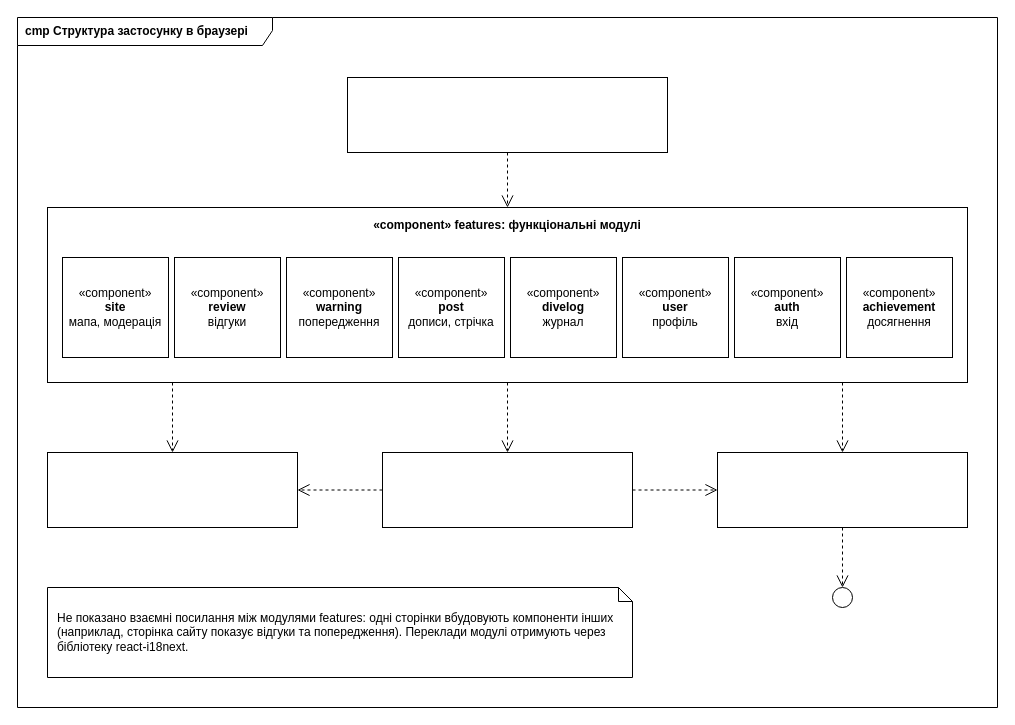
Some shapes in this 1015 by 725 pixel diagram are drawn without their labels. Here are the shapes that lost their labels. From the top down, the centre of each, then its label:
point (507, 114): «component» app маршрутизатор, макет, тема, клієнт запитів
point (172, 490): «component» i18n локалі en та uk
point (507, 490): «component» components спільні елементи інтерфейсу
point (842, 490): «component» api типізований клієнт, сесія
point (842, 597): REST API /api/v1
